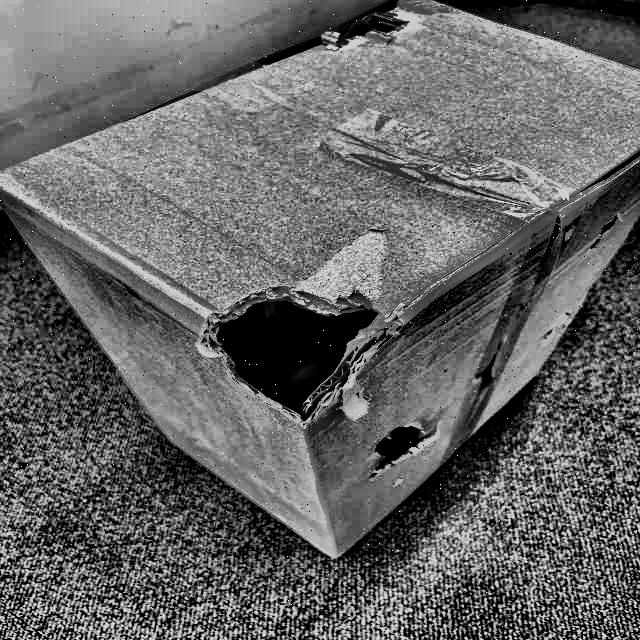box: (0, 0, 640, 566)
hole: (195, 279, 400, 429), (354, 419, 448, 477)
